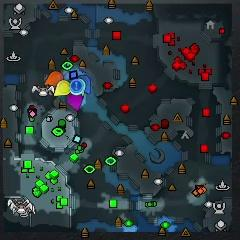Other: (70, 78, 82, 93)
p1: (76, 75, 93, 95)
p3: (65, 91, 84, 111)
p4: (54, 80, 71, 97)
p5: (45, 71, 64, 86)
